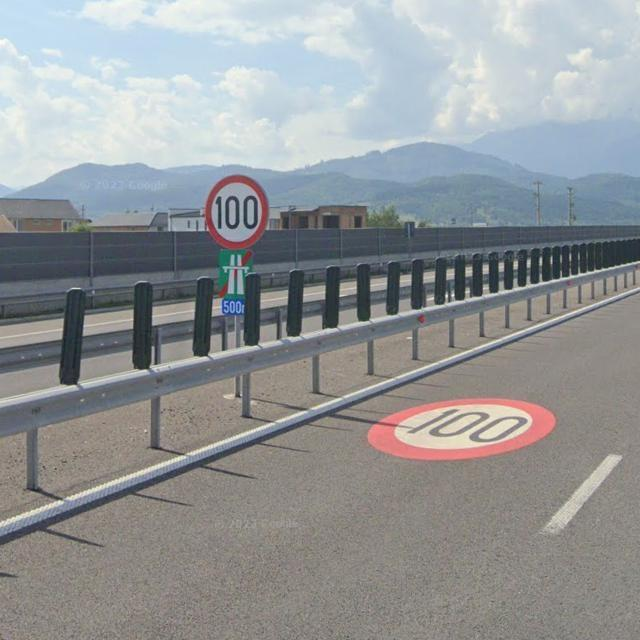forb_speed_over_100: (367, 394, 558, 462), (205, 172, 271, 253)
